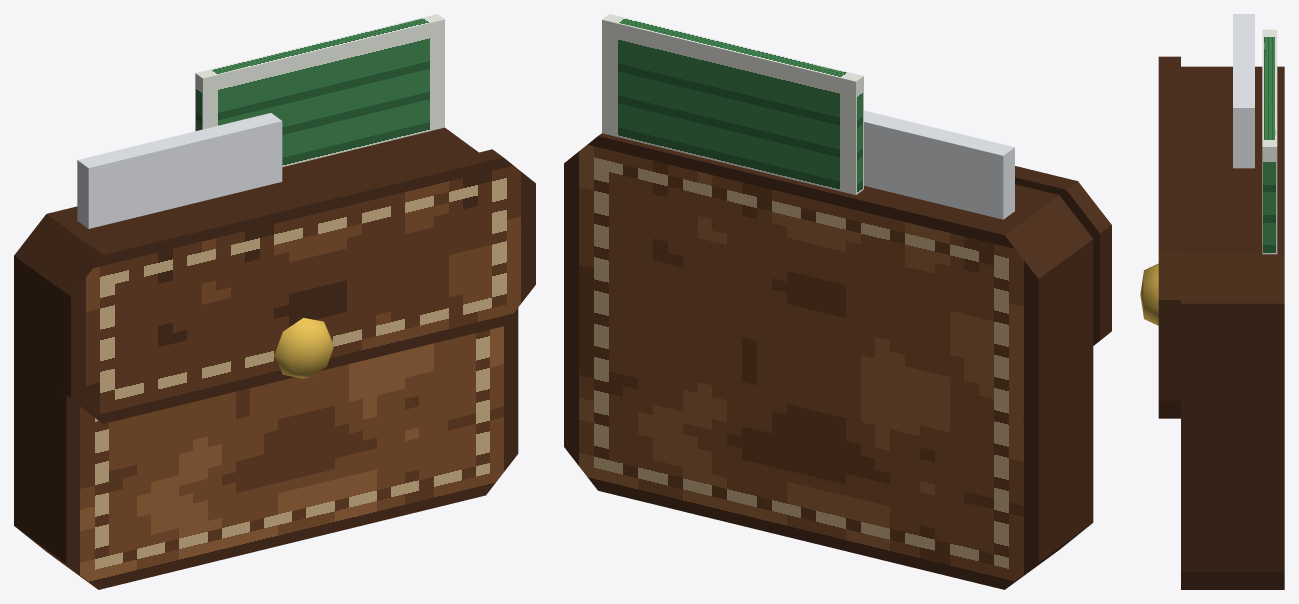
Rendered from money-wallet.glb.
3 renders of one model, left to right at view 1: azimuth 30°, elevation 25°; view 2: azimuth 150°, elevation 25°; view 3: azimuth 270°, elevation 25°, orthographic. The views are drawn at different scales.
Visible parts, largest first — view 1: money.wallet; view 2: money.wallet; view 3: money.wallet.
Part boxes in pixels (x1,y1,x2,y2): money.wallet: (14, 14, 535, 589); money.wallet: (564, 14, 1111, 589); money.wallet: (1140, 14, 1284, 589).
Size of the model in its own units: 1.57 by 1.44 by 0.4251.
6 materials, 3 textured.
